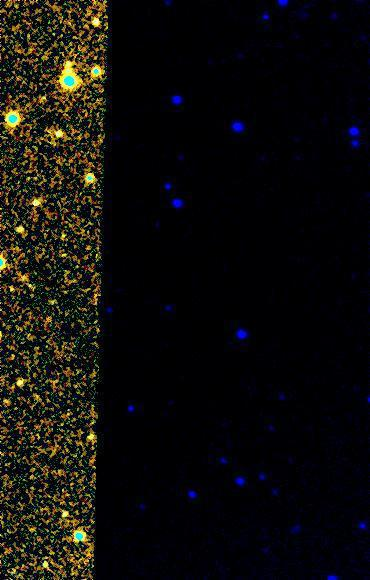star: (49, 495, 79, 525)
